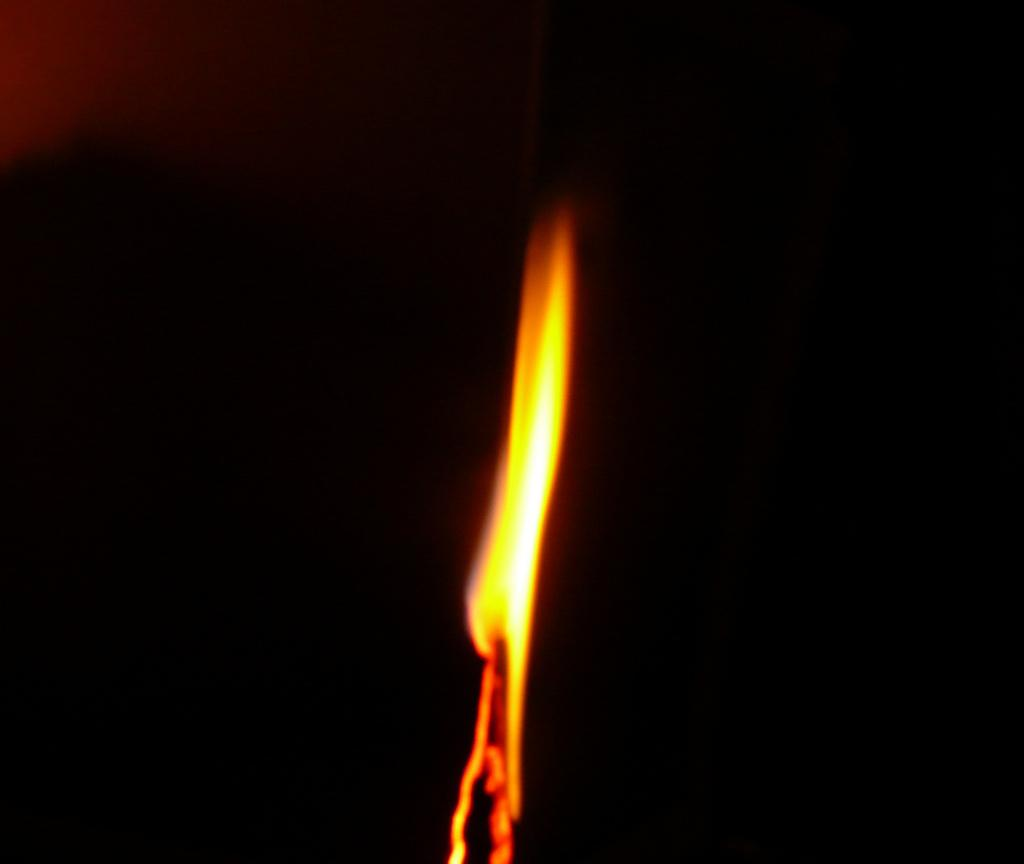fire: (500, 308, 582, 634)
